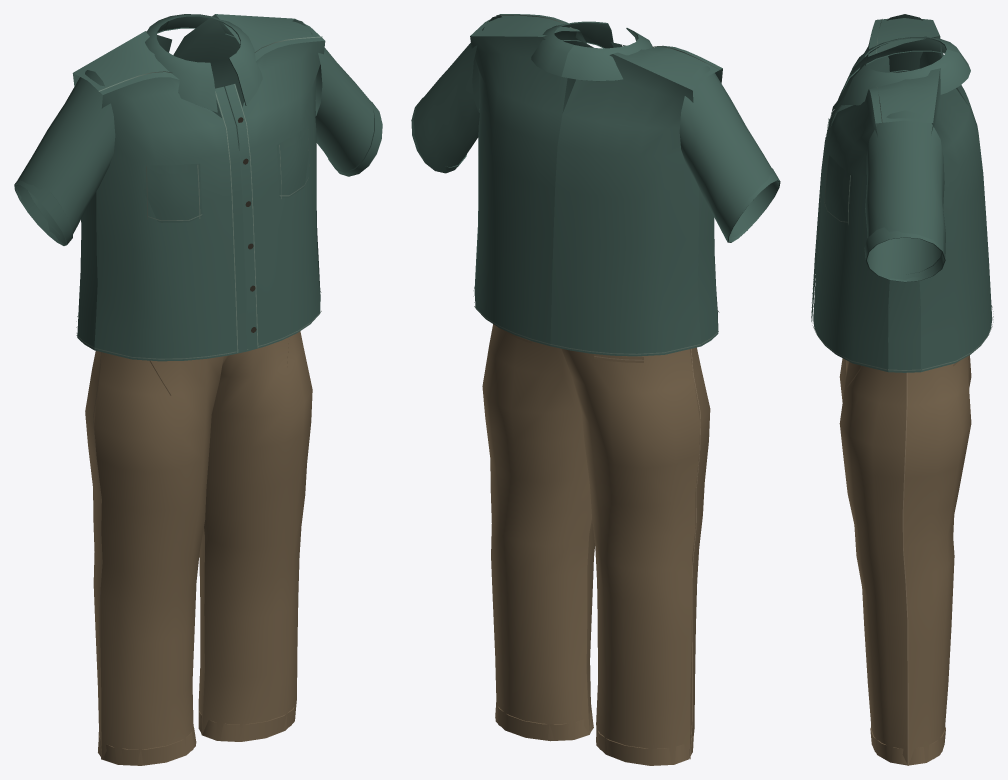
File: everyday-01-game-v1.glb
3 views of the same model, side by side, from view 1: azimuth 30°, elevation 25°; view 2: azimuth 150°, elevation 25°; view 3: azimuth 270°, elevation 25° (orthographic). The views are drawn at different scales.
Visible parts, largest first — view 1: GAME_everyday_01_static_unbound; view 2: GAME_everyday_01_static_unbound; view 3: GAME_everyday_01_static_unbound.
Boxes of the visible parts, x1,y1,x2,y2 form: GAME_everyday_01_static_unbound: (14, 14, 382, 765); GAME_everyday_01_static_unbound: (411, 14, 780, 765); GAME_everyday_01_static_unbound: (811, 14, 993, 765).
Size of the model in its own units: 0.7262 by 1.41 by 0.3501.
